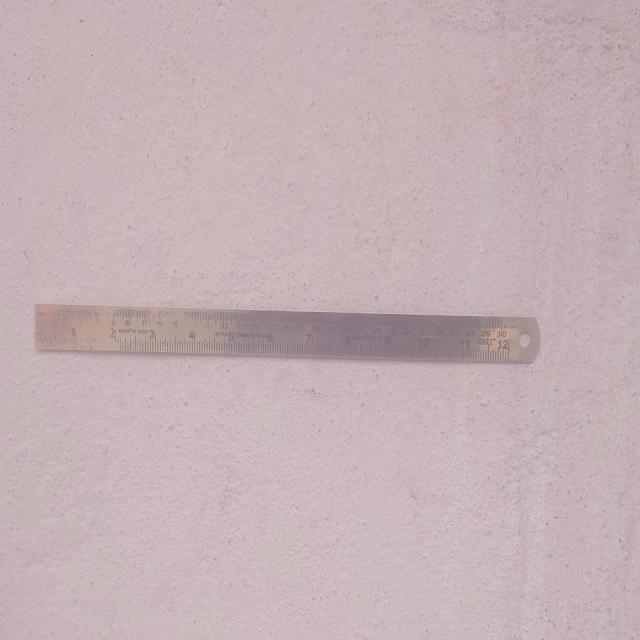scale: (37, 304, 542, 363)
